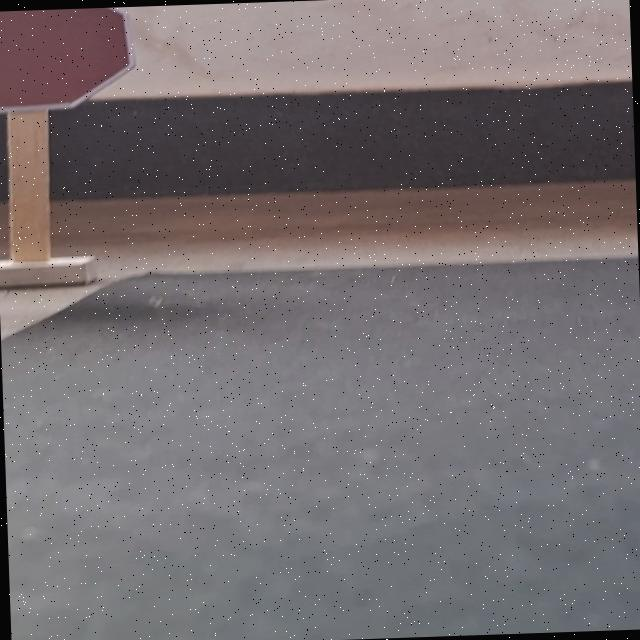Stop: (0, 6, 138, 116)
